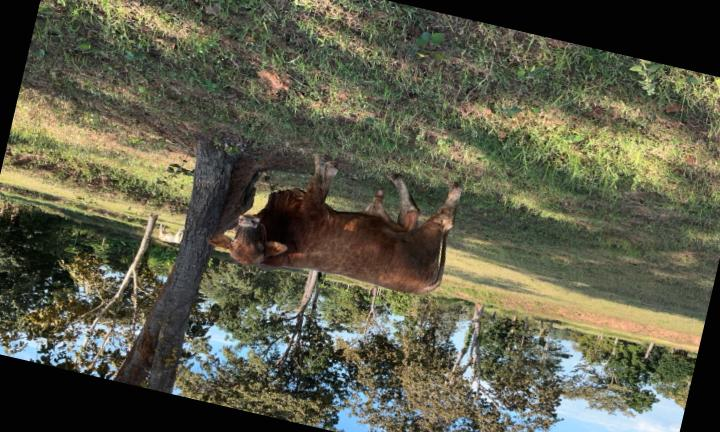Charolais: (207, 156, 461, 294)
